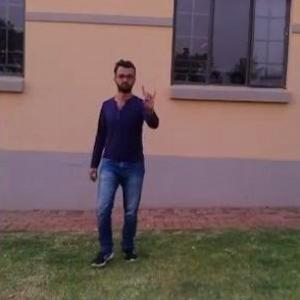takeoff-hand: (139, 84, 162, 115)
